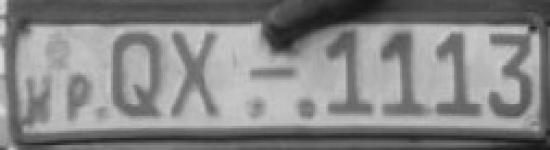-: (247, 63, 298, 81)
1: (320, 25, 376, 118), (434, 27, 486, 122), (380, 24, 431, 117)
3: (487, 27, 539, 125)
P: (63, 73, 96, 125)
Q: (102, 27, 169, 123)
W: (19, 68, 60, 128)
X: (170, 26, 223, 120)
